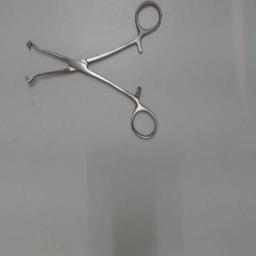Babcock Tissue Forceps: (23, 2, 163, 144)
